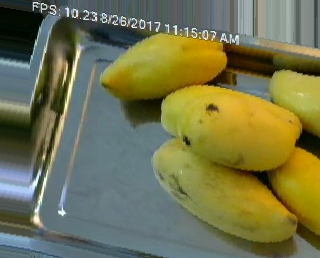Mango: (153, 140, 297, 246), (176, 92, 297, 170), (103, 29, 229, 101), (161, 82, 305, 139), (265, 141, 320, 237), (270, 69, 320, 138)
